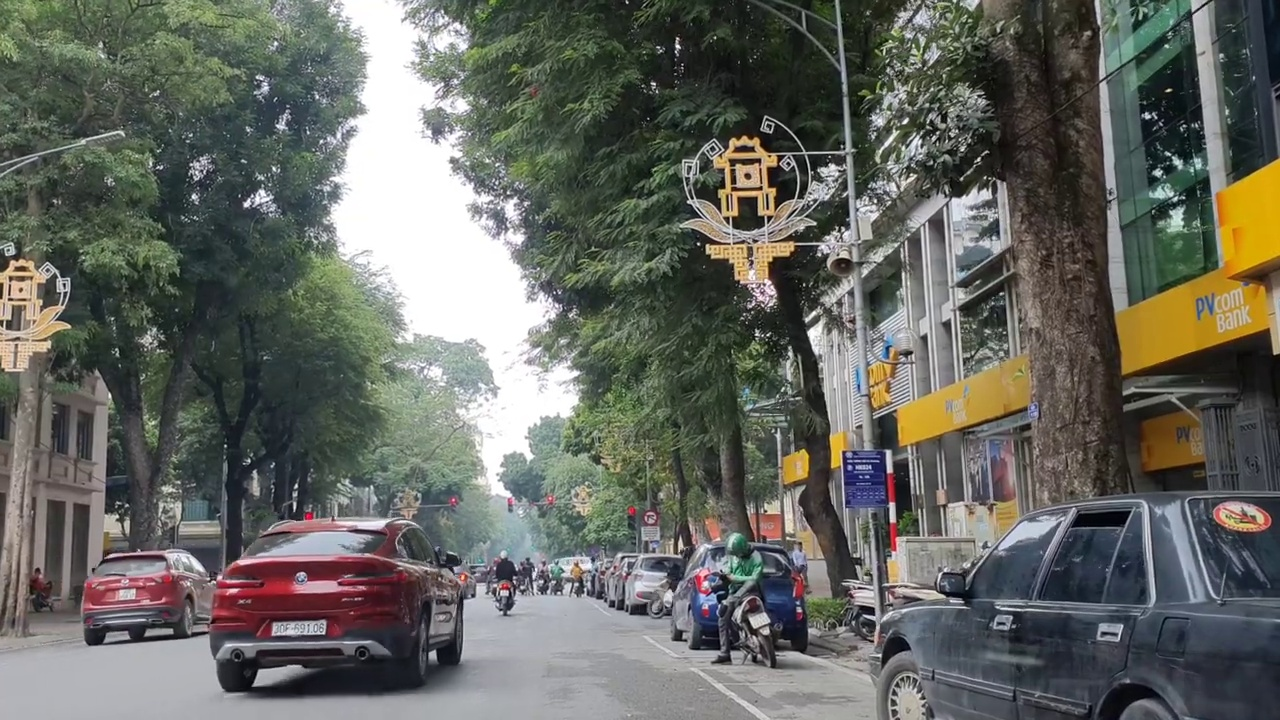person: (272, 617, 326, 635), (747, 610, 771, 628), (117, 587, 137, 600), (500, 588, 509, 596)
